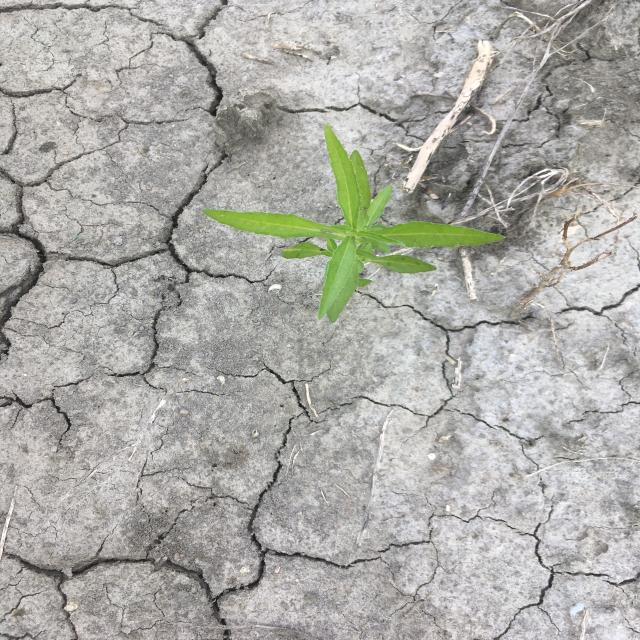Eclipta: (199, 124, 508, 327)
